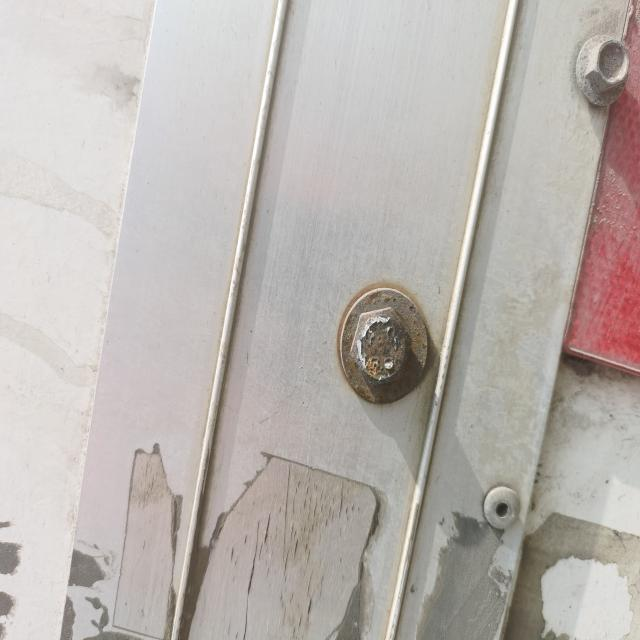bolt head: (349, 305, 414, 391)
bolt nut: (584, 36, 630, 94)
